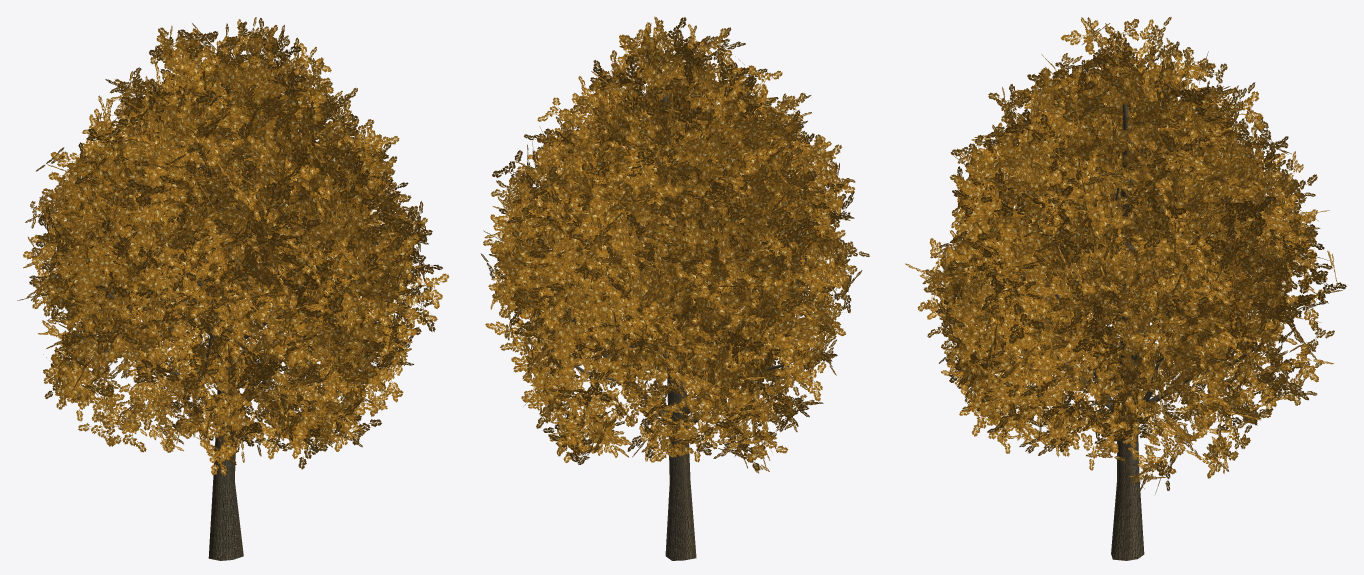
The model's file is Tilia_Americana_Autumn_Adult.glb.
3 renders of one model, left to right at view 1: azimuth 30°, elevation 25°; view 2: azimuth 150°, elevation 25°; view 3: azimuth 270°, elevation 25°, orthographic.
Parts seen in each view (by area): view 1: Tilia_Americana_Autumn_Adult__LOD3; view 2: Tilia_Americana_Autumn_Adult__LOD3; view 3: Tilia_Americana_Autumn_Adult__LOD3.
Boxes of the visible parts, bbox=[...] form: Tilia_Americana_Autumn_Adult__LOD3: bbox=[17, 17, 448, 560]; Tilia_Americana_Autumn_Adult__LOD3: bbox=[480, 16, 869, 560]; Tilia_Americana_Autumn_Adult__LOD3: bbox=[905, 17, 1346, 560].
Size of the model in its own units: 21.6 by 31.12 by 23.49.
2 materials, 2 textured.
